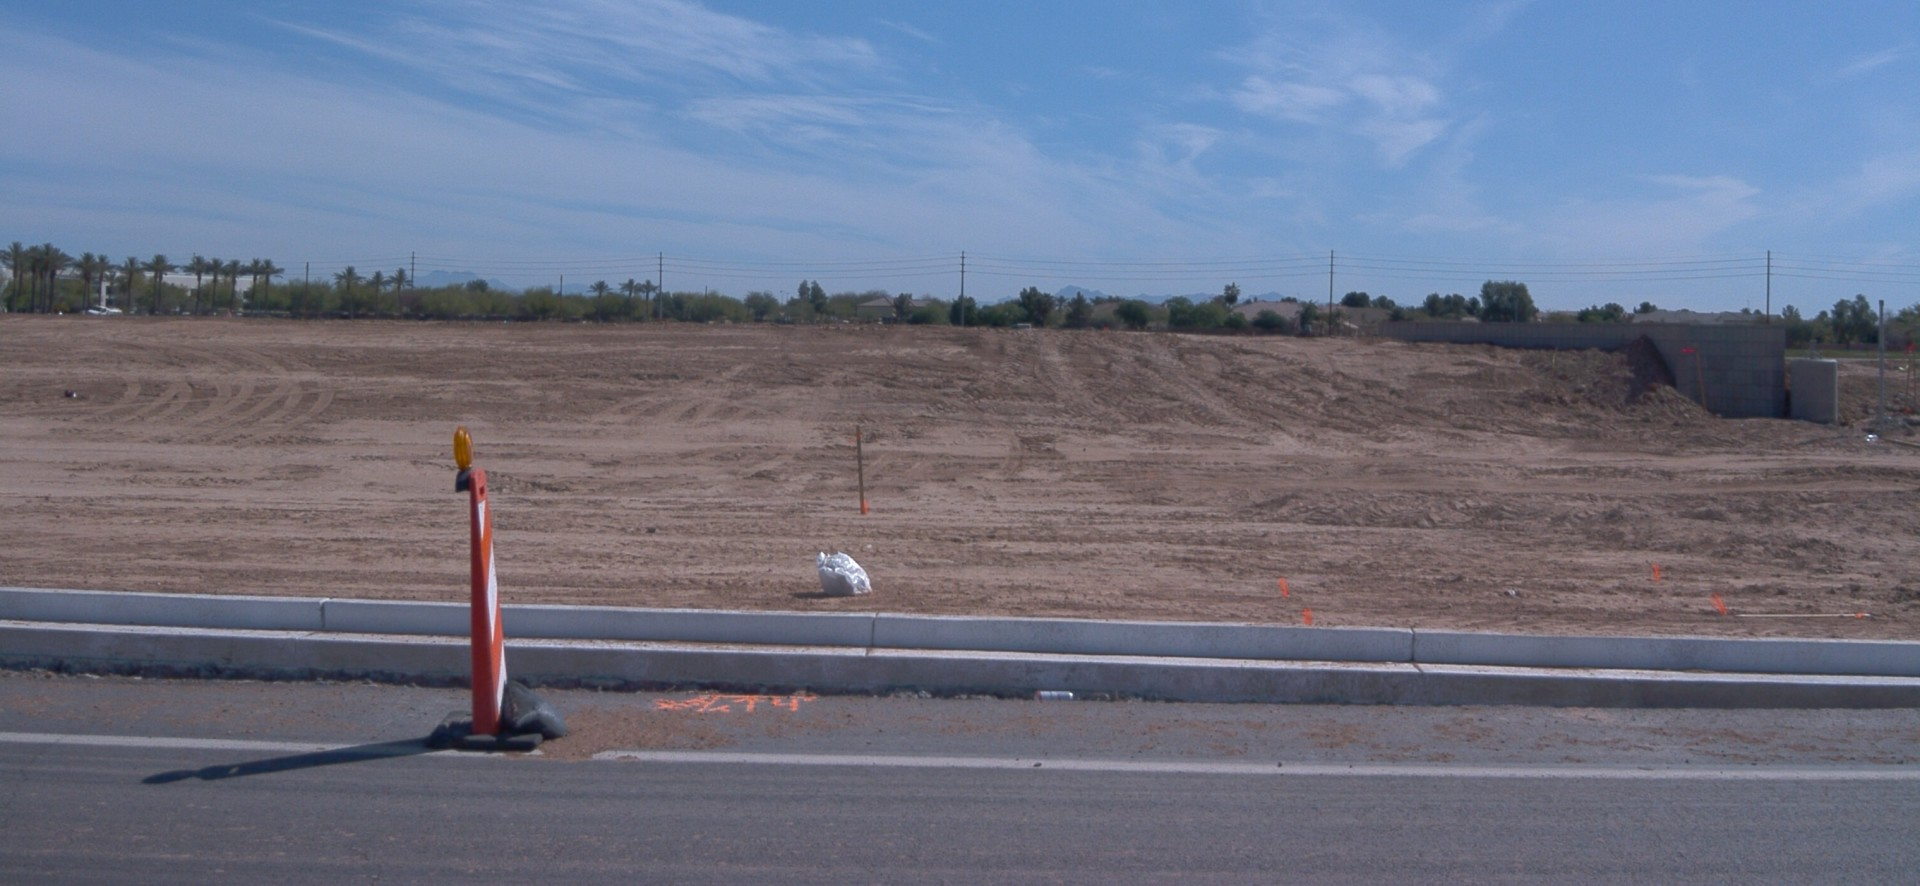TYPE_VEHICLE: (84, 302, 125, 317), (84, 302, 125, 317), (84, 302, 125, 317), (84, 302, 125, 317)
